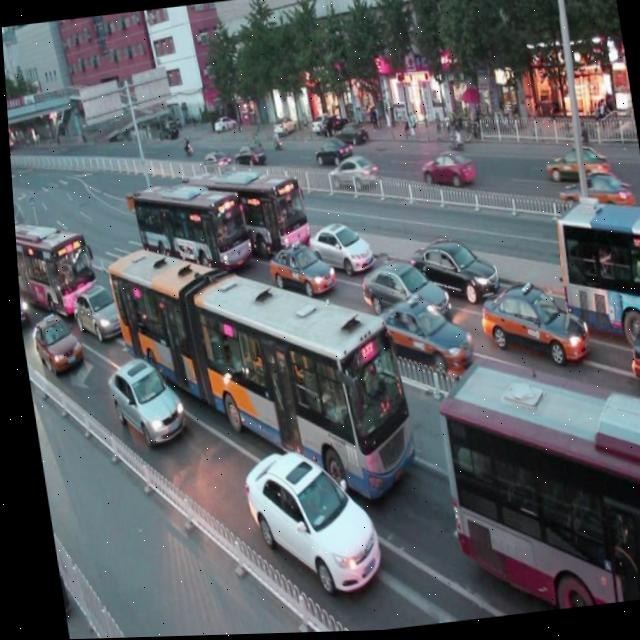car: (232, 439, 377, 606), (471, 274, 588, 380), (364, 295, 469, 380), (98, 352, 182, 453), (352, 252, 447, 339), (405, 230, 498, 309), (259, 234, 333, 303), (300, 212, 370, 282), (64, 280, 126, 344), (26, 310, 81, 379), (616, 318, 640, 404), (14, 276, 30, 335)
van: (98, 215, 418, 525), (424, 342, 640, 623), (125, 168, 251, 289), (544, 192, 640, 347), (182, 154, 310, 267), (11, 208, 94, 312)
